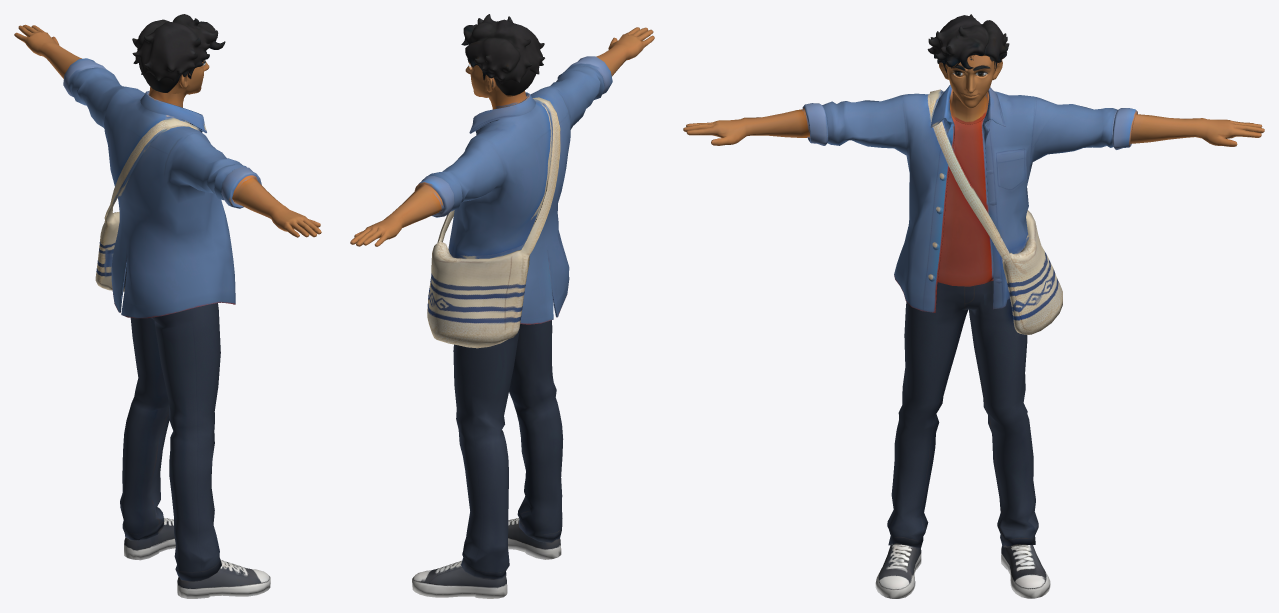
The model's file is tripo_convert_dfa53f4f-1497-43a8-96ff-42eecb69d023.glb.
The picture shows the model from 3 angles, left to right: view 1: azimuth 30°, elevation 25°; view 2: azimuth 150°, elevation 25°; view 3: azimuth 270°, elevation 25°; orthographic projection.
Visible parts, largest first — view 1: tripo_node_dfa53f4f-1497-43a8-96ff-42eecb69d023; view 2: tripo_node_dfa53f4f-1497-43a8-96ff-42eecb69d023; view 3: tripo_node_dfa53f4f-1497-43a8-96ff-42eecb69d023.
Part boxes in pixels (box(x1,y1,x2,y2)): tripo_node_dfa53f4f-1497-43a8-96ff-42eecb69d023: box(14, 14, 321, 598); tripo_node_dfa53f4f-1497-43a8-96ff-42eecb69d023: box(350, 14, 654, 598); tripo_node_dfa53f4f-1497-43a8-96ff-42eecb69d023: box(683, 14, 1264, 598).
Bounding box in the file's own units: 0.2124 × 0.9995 × 0.9526.
1 material, 1 textured.
